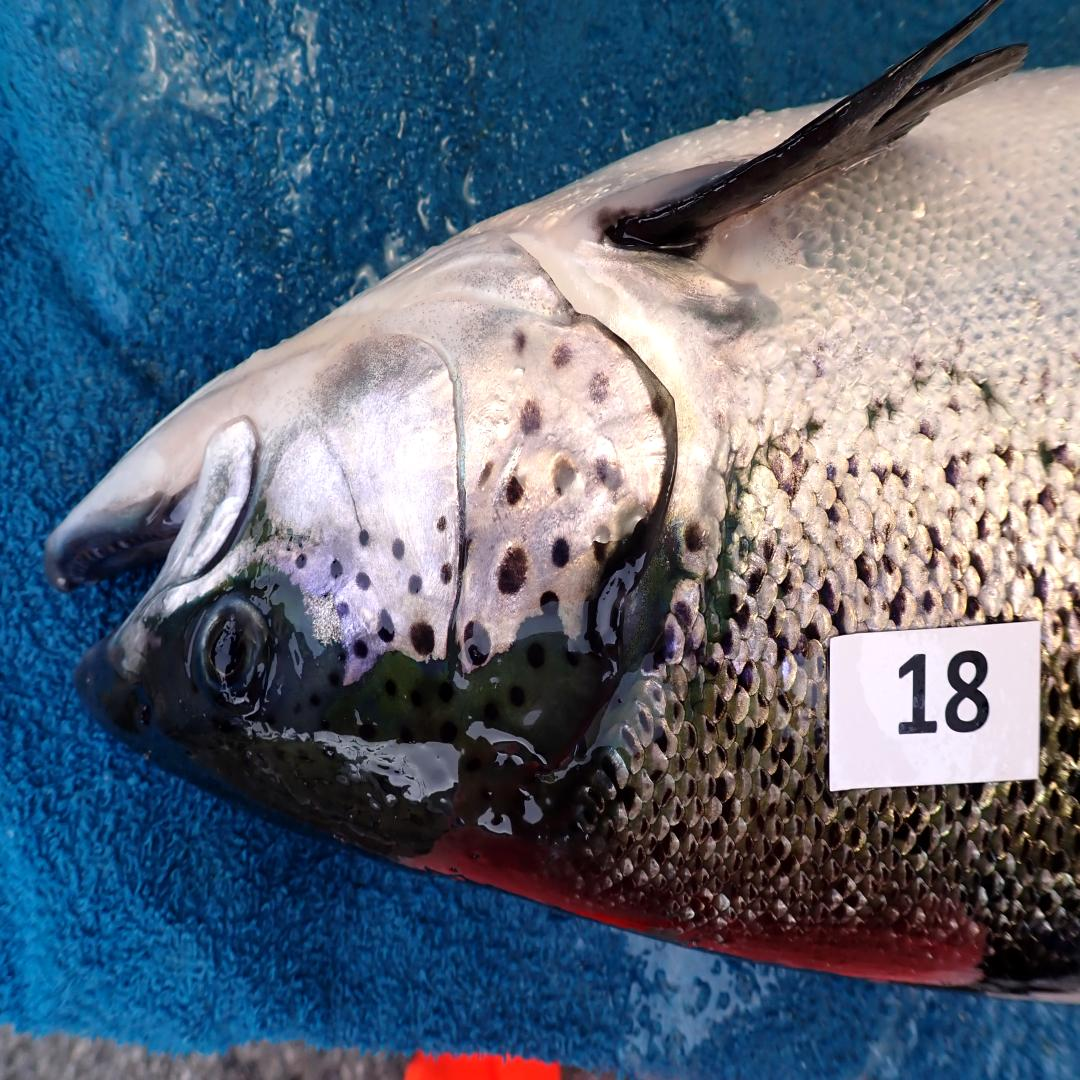roi: (260, 225, 676, 679)
